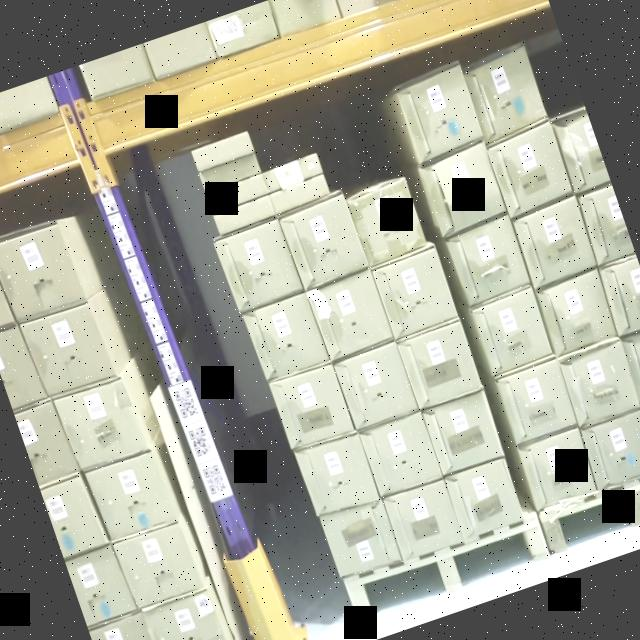box: (0, 220, 84, 323), (56, 376, 146, 471), (23, 302, 112, 396), (370, 246, 458, 340), (280, 196, 368, 287), (215, 220, 302, 312), (461, 48, 548, 140), (420, 144, 507, 235), (88, 451, 175, 541), (308, 269, 394, 359), (512, 198, 598, 288), (333, 342, 418, 429), (471, 286, 554, 374), (116, 522, 200, 608), (397, 322, 481, 407), (398, 71, 482, 156), (270, 365, 353, 450), (488, 127, 571, 212), (558, 340, 640, 424), (359, 412, 441, 494), (246, 295, 326, 379), (448, 221, 529, 302), (422, 393, 502, 473), (320, 497, 400, 576), (497, 362, 576, 442), (518, 430, 597, 510), (444, 460, 524, 538), (538, 274, 616, 354), (298, 434, 377, 512), (384, 480, 462, 558), (348, 182, 424, 262), (65, 546, 133, 626), (14, 399, 76, 486), (41, 476, 106, 558), (552, 106, 610, 191), (581, 410, 640, 487), (142, 588, 228, 640), (580, 186, 634, 262), (0, 323, 40, 406), (600, 256, 640, 333), (198, 153, 260, 190), (269, 174, 329, 212), (88, 610, 163, 640), (206, 174, 267, 210), (193, 133, 253, 169), (214, 198, 274, 232), (262, 154, 321, 188), (622, 327, 640, 401)
